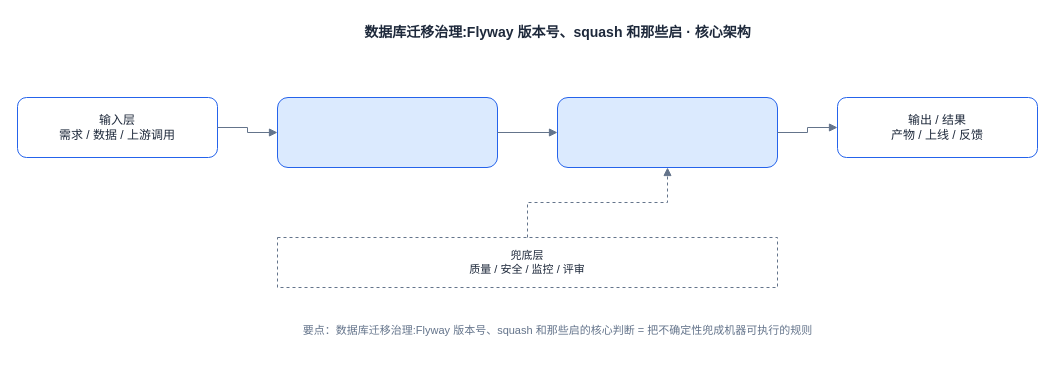
The diagram is 1055 pixels wide and 369 high, and some of its shapes have lost their labels. The shapes that lost their labels are listed below. From the top down, each one's centre as x and y in pixels, then its label:
At pixel 387 132: "核心模块一 数据库迁移治理:Flyway 版本号、squash 和那些启的左侧关键链路".
At pixel 667 132: "核心模块二 数据库迁移治理:Flyway 版本号、squash 和那些启的右侧关键链路".
